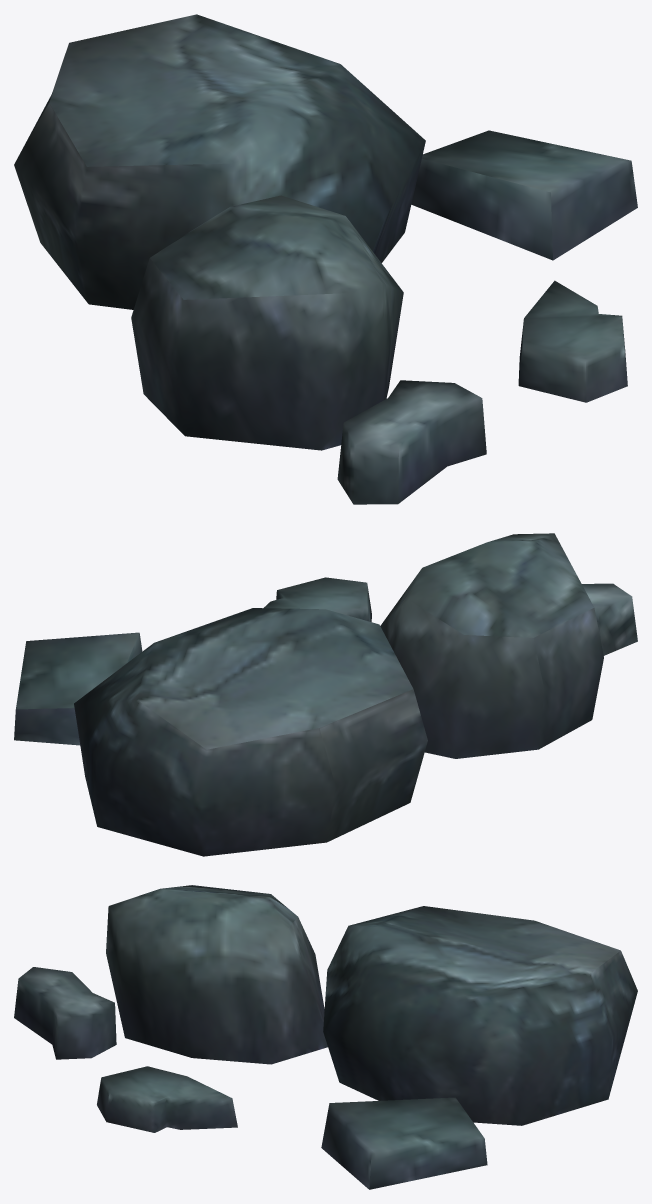
The model's file is Area_13_46.fbx.
3 views of the same model, one above another, from view 1: azimuth 30°, elevation 25°; view 2: azimuth 150°, elevation 25°; view 3: azimuth 270°, elevation 25° (orthographic). The views are drawn at different scales.
Visible parts, largest first — view 1: Area_13_46; view 2: Area_13_46; view 3: Area_13_46.
Boxes of the visible parts, x1,y1,x2,y2 form: Area_13_46: [14, 14, 637, 504]; Area_13_46: [14, 533, 637, 856]; Area_13_46: [14, 885, 637, 1189].
Size of the model in its own units: 207 by 61.6 by 262.
